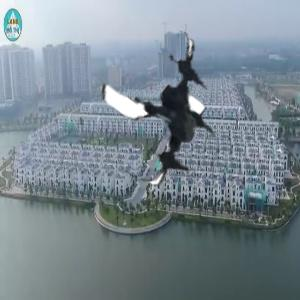drone: (92, 36, 242, 186)
